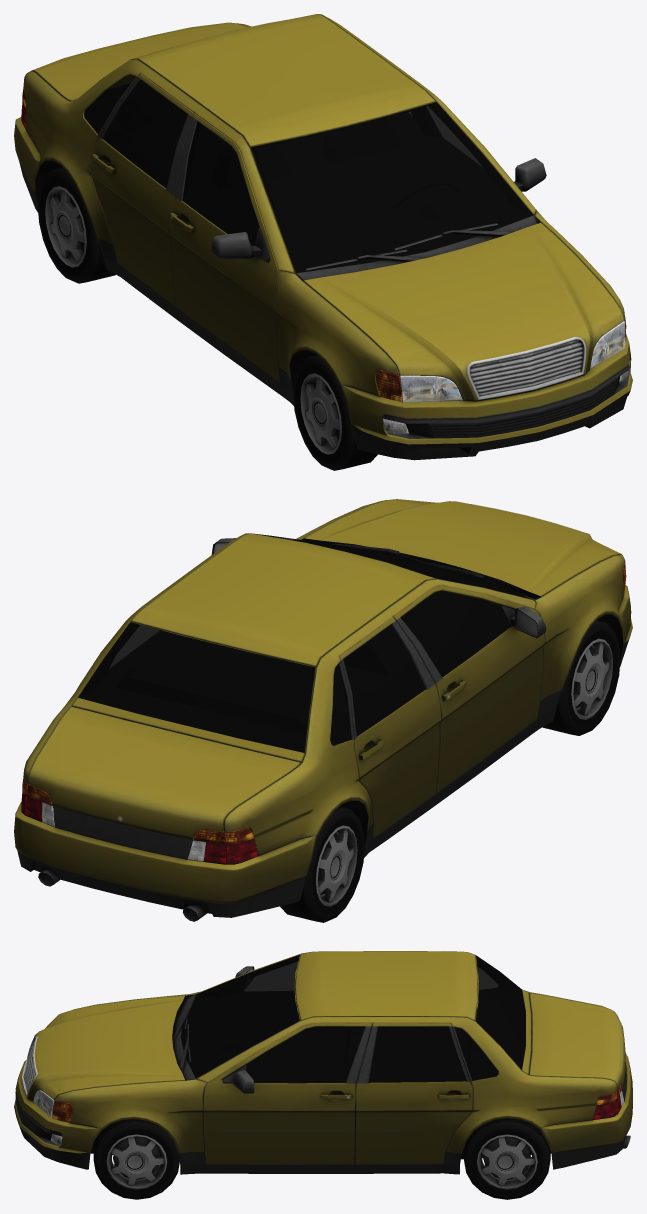
File: sedan.glb
3 renders of one model, top to bottom at view 1: azimuth 30°, elevation 25°; view 2: azimuth 150°, elevation 25°; view 3: azimuth 270°, elevation 25°, orthographic. The views are drawn at different scales.
Visible parts, largest first — view 1: Sedan Body_Body_0, Sedan Body_Glass_0, Wheel_A002_Wheel_0, Wheel_A003_Wheel_0, Sedan Body_Optics_0; view 2: Sedan Body_Body_0, Sedan Body_Glass_0, Wheel_A003_Wheel_0, Wheel_A002_Wheel_0, Sedan Body_Optics_0; view 3: Sedan Body_Body_0, Sedan Body_Glass_0, Wheel_A001_Wheel_0, Wheel_A_Wheel_0, Sedan Body_Optics_0.
Part boxes in pixels (x1,y1,x2,y2): Sedan Body_Body_0: (14, 14, 632, 460); Sedan Body_Glass_0: (84, 75, 533, 273); Wheel_A002_Wheel_0: (293, 354, 377, 470); Wheel_A003_Wheel_0: (37, 167, 115, 283); Sedan Body_Optics_0: (21, 89, 630, 434); Sedan Body_Body_0: (14, 499, 632, 921); Sedan Body_Glass_0: (78, 533, 531, 752); Wheel_A003_Wheel_0: (280, 806, 364, 922); Wheel_A002_Wheel_0: (542, 620, 620, 735); Sedan Body_Optics_0: (21, 561, 626, 864); Sedan Body_Body_0: (14, 951, 632, 1174); Sedan Body_Glass_0: (180, 955, 525, 1083); Wheel_A001_Wheel_0: (464, 1118, 550, 1199); Wheel_A_Wheel_0: (93, 1119, 179, 1199); Sedan Body_Optics_0: (33, 1084, 624, 1145).
Size of the model in its own units: 1.94 by 1.34 by 4.36.
4 materials, 3 textured.
